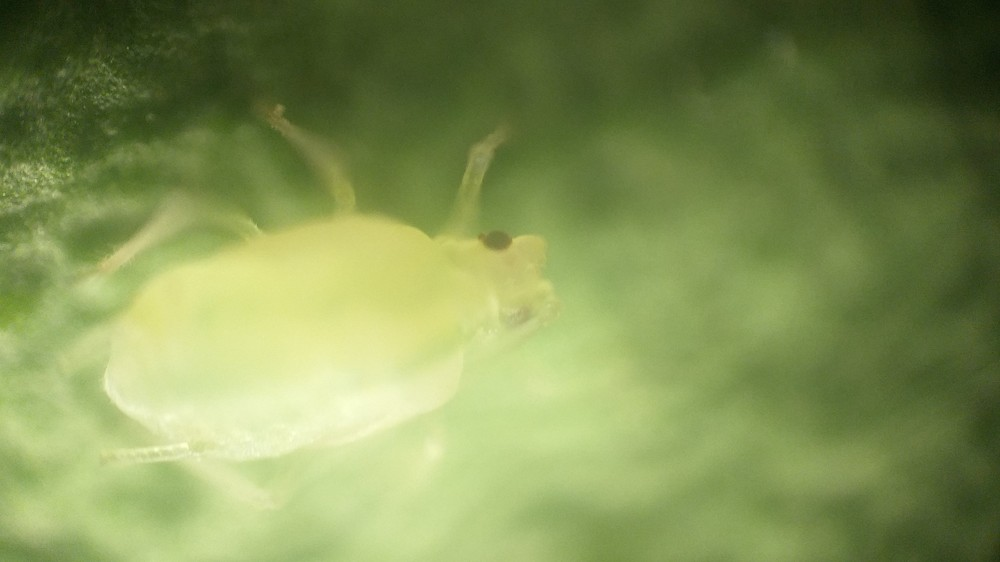Pulgon: (48, 109, 595, 549)
